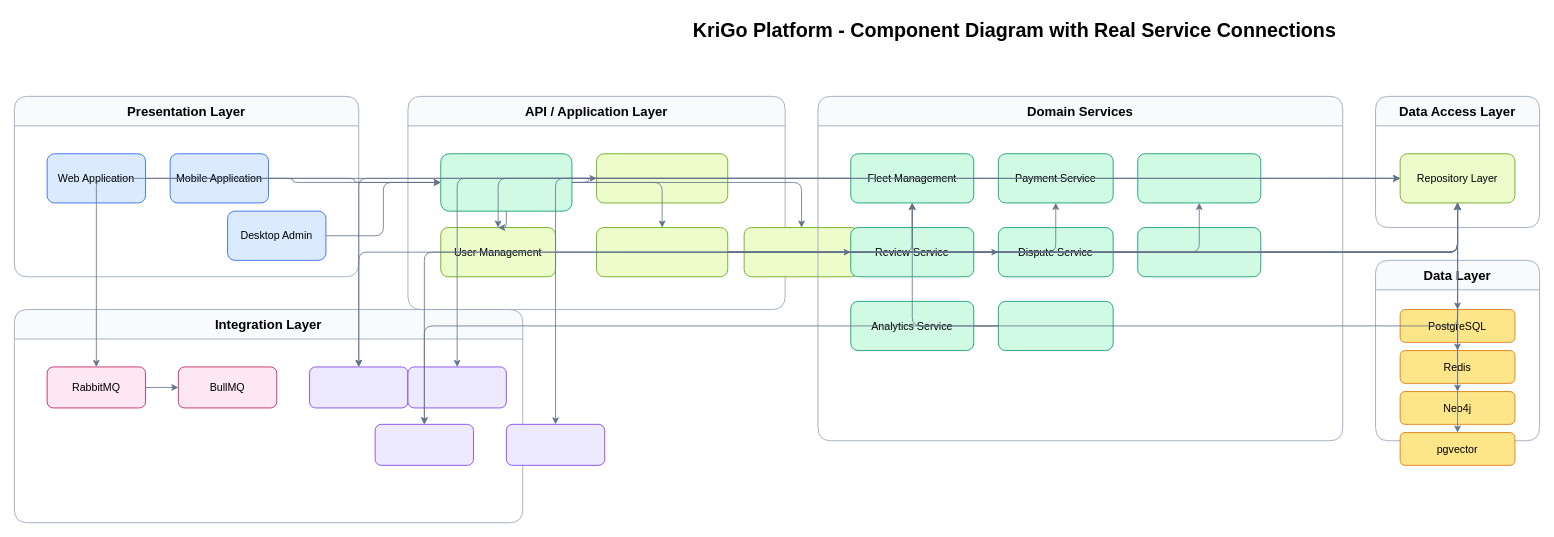
The diagram is 1554 pixels wide and 537 high, and some of its shapes have lost their labels. The centre of each missing label's shape, as x and y in pixels:
Agency Service: [801,252]
AI Assistant: [1055,326]
AI Provider: [424,444]
AI Recommendation: [1199,252]
API Gateway / BFF: [506,182]
Authentication Service: [662,178]
Cloud Storage: [358,387]
Maps API: [555,444]
Notification Service: [1199,178]
Payment Gateway: [456,387]
Reservation Service: [662,252]
